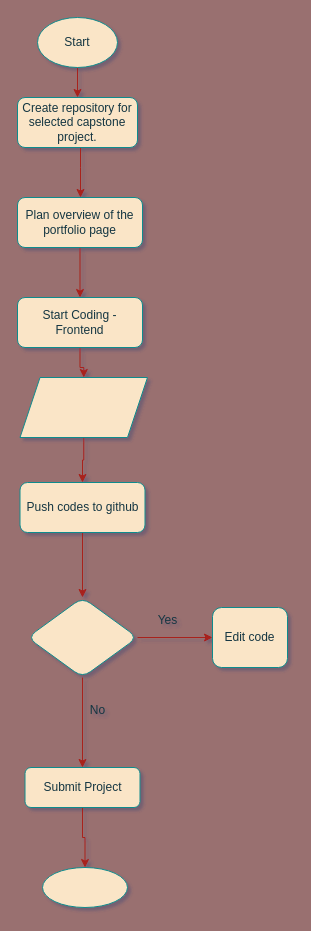
This 311x931 diagram has some shape labels left out. The shapes that lost their labels are listed below. From the top down, each one's box as (x1, y1, x2, y2) in pixels, then its label:
(19, 376, 148, 438): Add personal projects into page
(26, 596, 138, 678): Any addition to code?
(42, 866, 128, 908): End
